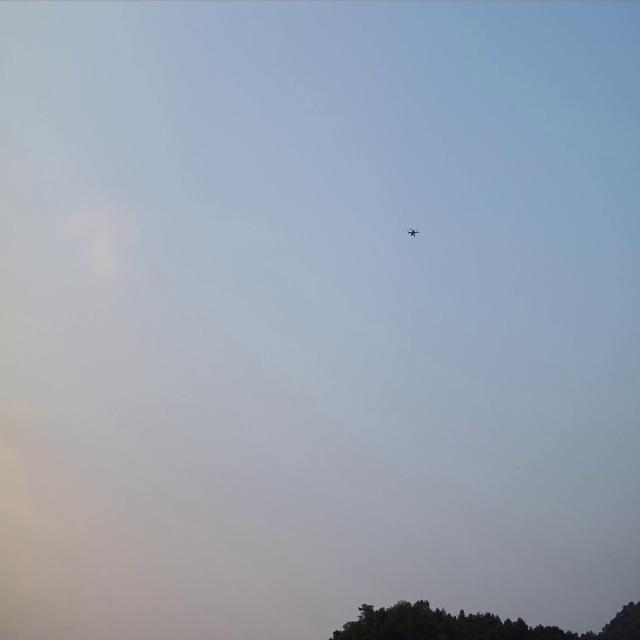UAV: (406, 225, 420, 240)
